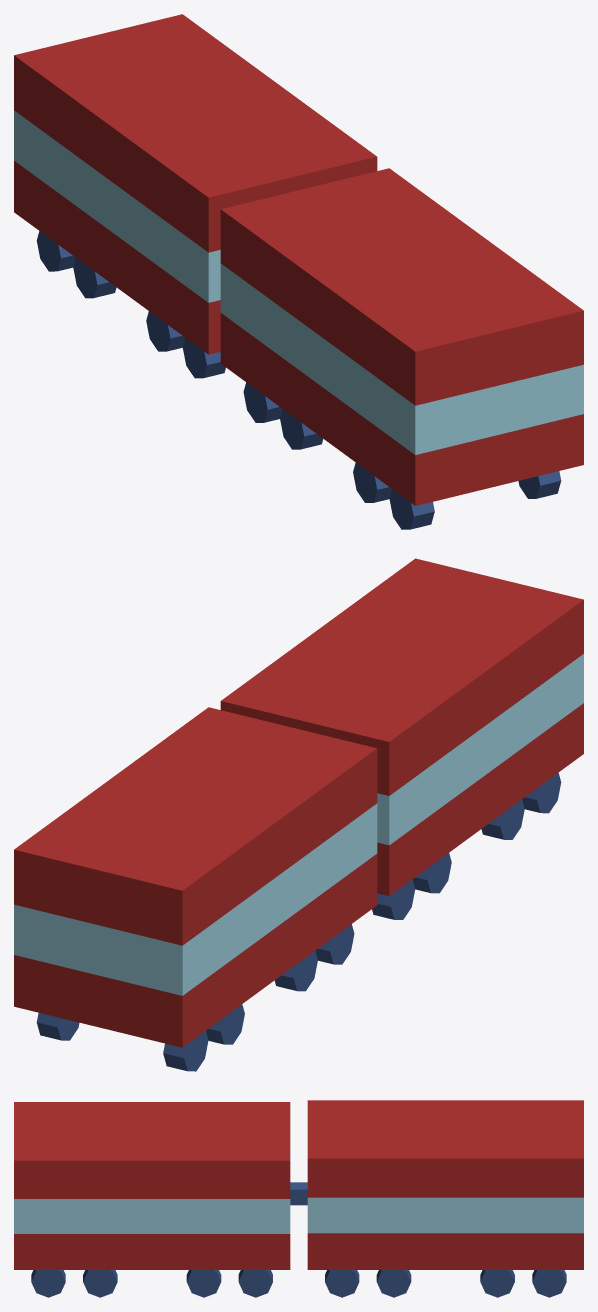
The model's file is Bus.fbx.
3 renders of one model, top to bottom at view 1: azimuth 30°, elevation 25°; view 2: azimuth 150°, elevation 25°; view 3: azimuth 270°, elevation 25°, orthographic. The views are drawn at different scales.
Parts seen in each view (by area): view 1: Red, Windows.001, Wheels; view 2: Red, Windows.001, Wheels; view 3: Red, Windows.001, Wheels, Link.
Part boxes in pixels (box(x1,y1,x2,y2)): Red: box(14, 14, 583, 505); Windows.001: box(14, 110, 583, 454); Wheels: box(36, 231, 561, 529); Red: box(14, 558, 583, 1047); Windows.001: box(14, 654, 583, 995); Wheels: box(36, 773, 561, 1071); Red: box(14, 1100, 583, 1269); Windows.001: box(14, 1197, 583, 1233); Wheels: box(31, 1270, 566, 1297); Link: box(290, 1182, 307, 1205).
Size of the model in its own units: 800 by 912 by 3300.
